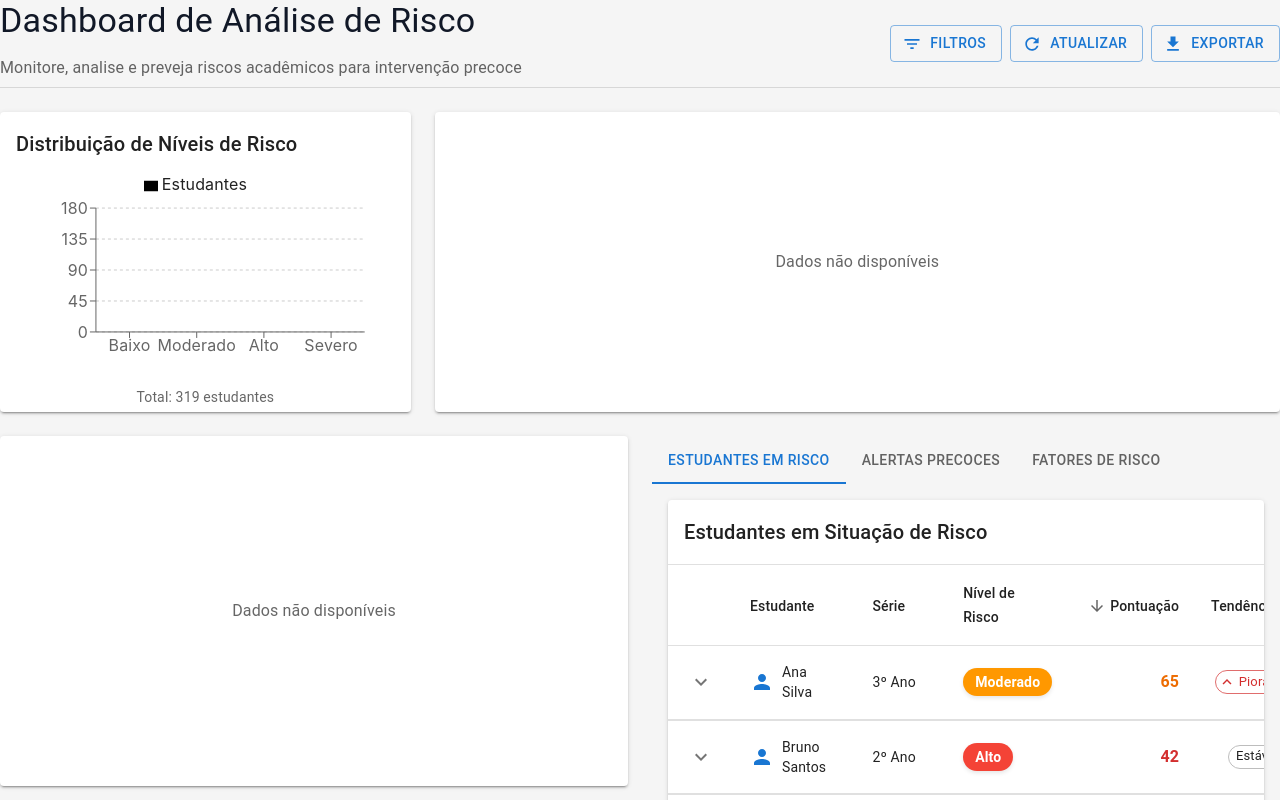
Test: RiskAnalysisDashboard › navega entre as abas corretamente
Expected: the heading "Estudantes em Situação de Risco" is shown, [684,520,988,544]
// Clicar na segunda aba
Step 1. Click the tab "Alertas Precoces" → click(931, 460), box [846,436,1016,484]
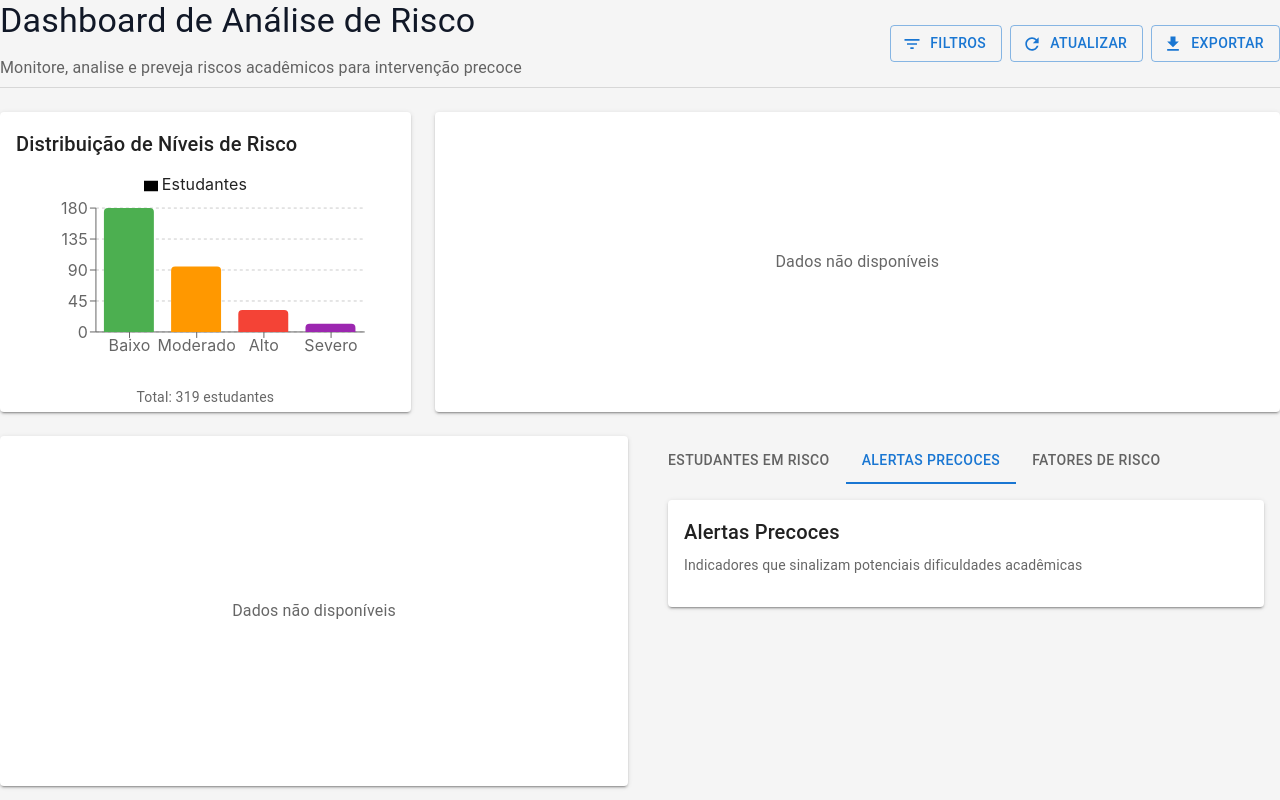
Expected: the text "Indicadores que sinalizam potenciais dificuldades acadêmicas" is shown, [684,558,1082,574]
// Clicar na terceira aba
Step 2. Click the tab "Fatores de Risco" → click(1096, 460), box [1016,436,1177,484]
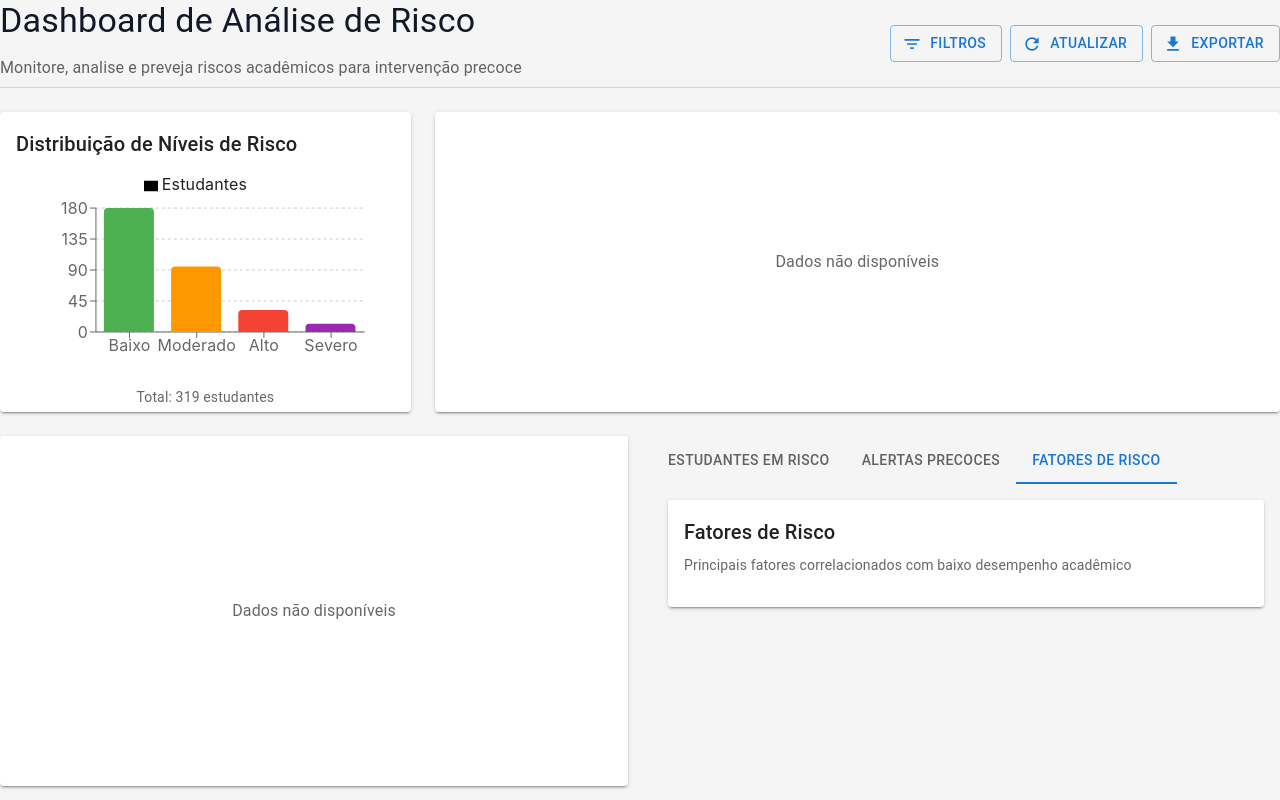
Expected: the text "Principais fatores correlacionados com baixo desempenho acadêmico" is shown, [684,558,1132,574]
